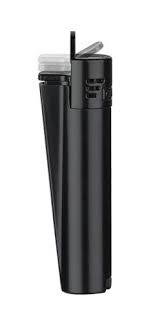lighter: (37, 31, 114, 296)
